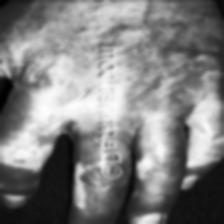Non-Cancerous Skin Condition: (124, 1, 222, 82), (0, 0, 73, 84), (0, 128, 44, 178), (180, 114, 224, 164), (68, 153, 98, 214), (126, 130, 162, 178)
